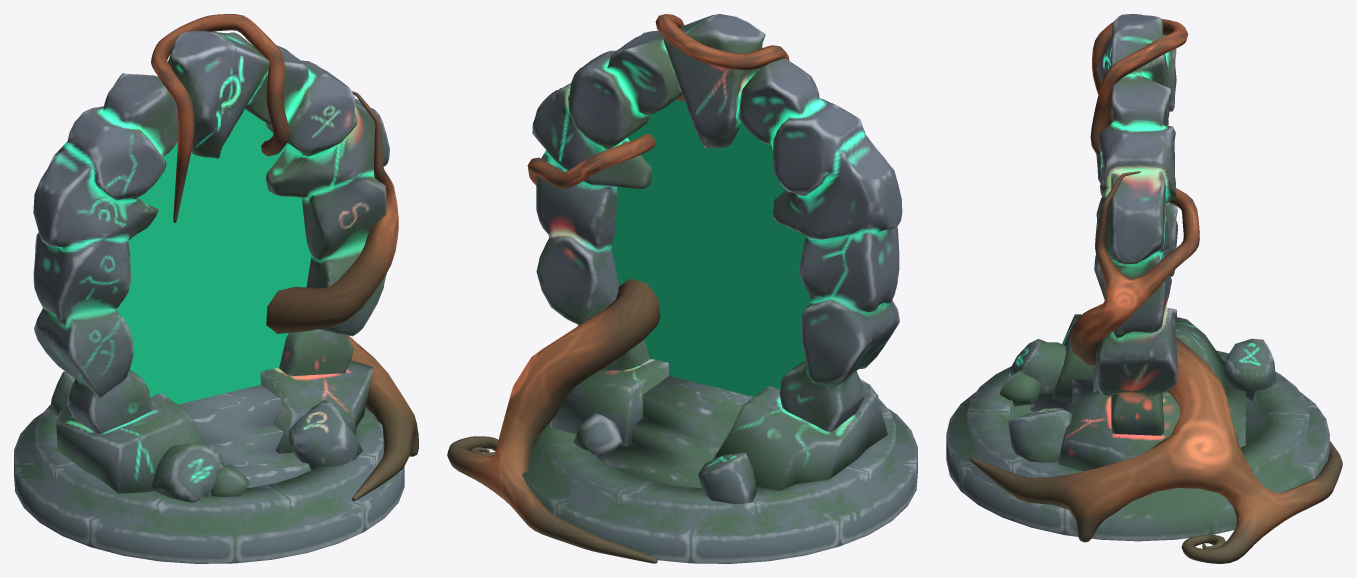
The model's file is portal2.fbx.
3 views of the same model, side by side, from view 1: azimuth 30°, elevation 25°; view 2: azimuth 150°, elevation 25°; view 3: azimuth 270°, elevation 25° (orthographic). The views are drawn at different scales.
Parts seen in each view (by area): view 1: Arc_UMesh_Cube14_001_0, Plane, platform__0, tree__0, PreArc__0, LOW_Cube_012_001_0, Stupeni__0; view 2: Arc_UMesh_Cube14_001_0, Plane, platform__0, tree__0, PreArc__0, Stupeni__0, LOW_Cube_012_001_0; view 3: tree__0, Arc_UMesh_Cube14_001_0, platform__0, LOW_Cube_012_001_0, PreArc__0, Stupeni__0.
Part boxes in pixels (bbox=[...]): Arc_UMesh_Cube14_001_0: bbox=[33, 31, 389, 433]; Plane: bbox=[116, 109, 311, 404]; platform__0: bbox=[14, 405, 404, 563]; tree__0: bbox=[151, 14, 418, 501]; PreArc__0: bbox=[56, 360, 372, 493]; LOW_Cube_012_001_0: bbox=[49, 371, 362, 502]; Stupeni__0: bbox=[178, 384, 310, 487]; Arc_UMesh_Cube14_001_0: bbox=[532, 14, 902, 432]; Plane: bbox=[611, 99, 810, 396]; platform__0: bbox=[522, 398, 917, 563]; tree__0: bbox=[447, 14, 789, 563]; PreArc__0: bbox=[550, 359, 887, 490]; Stupeni__0: bbox=[599, 376, 753, 487]; LOW_Cube_012_001_0: bbox=[573, 379, 878, 504]; tree__0: bbox=[970, 19, 1342, 563]; Arc_UMesh_Cube14_001_0: bbox=[1094, 14, 1178, 435]; platform__0: bbox=[946, 350, 1329, 541]; LOW_Cube_012_001_0: bbox=[999, 338, 1276, 462]; PreArc__0: bbox=[1052, 314, 1226, 471]; Stupeni__0: bbox=[1030, 365, 1245, 447].
Bounding box in the file's own units: 270 × 300 × 243.
2 materials, 1 textured.
